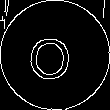O_N: (33, 29, 77, 81)
